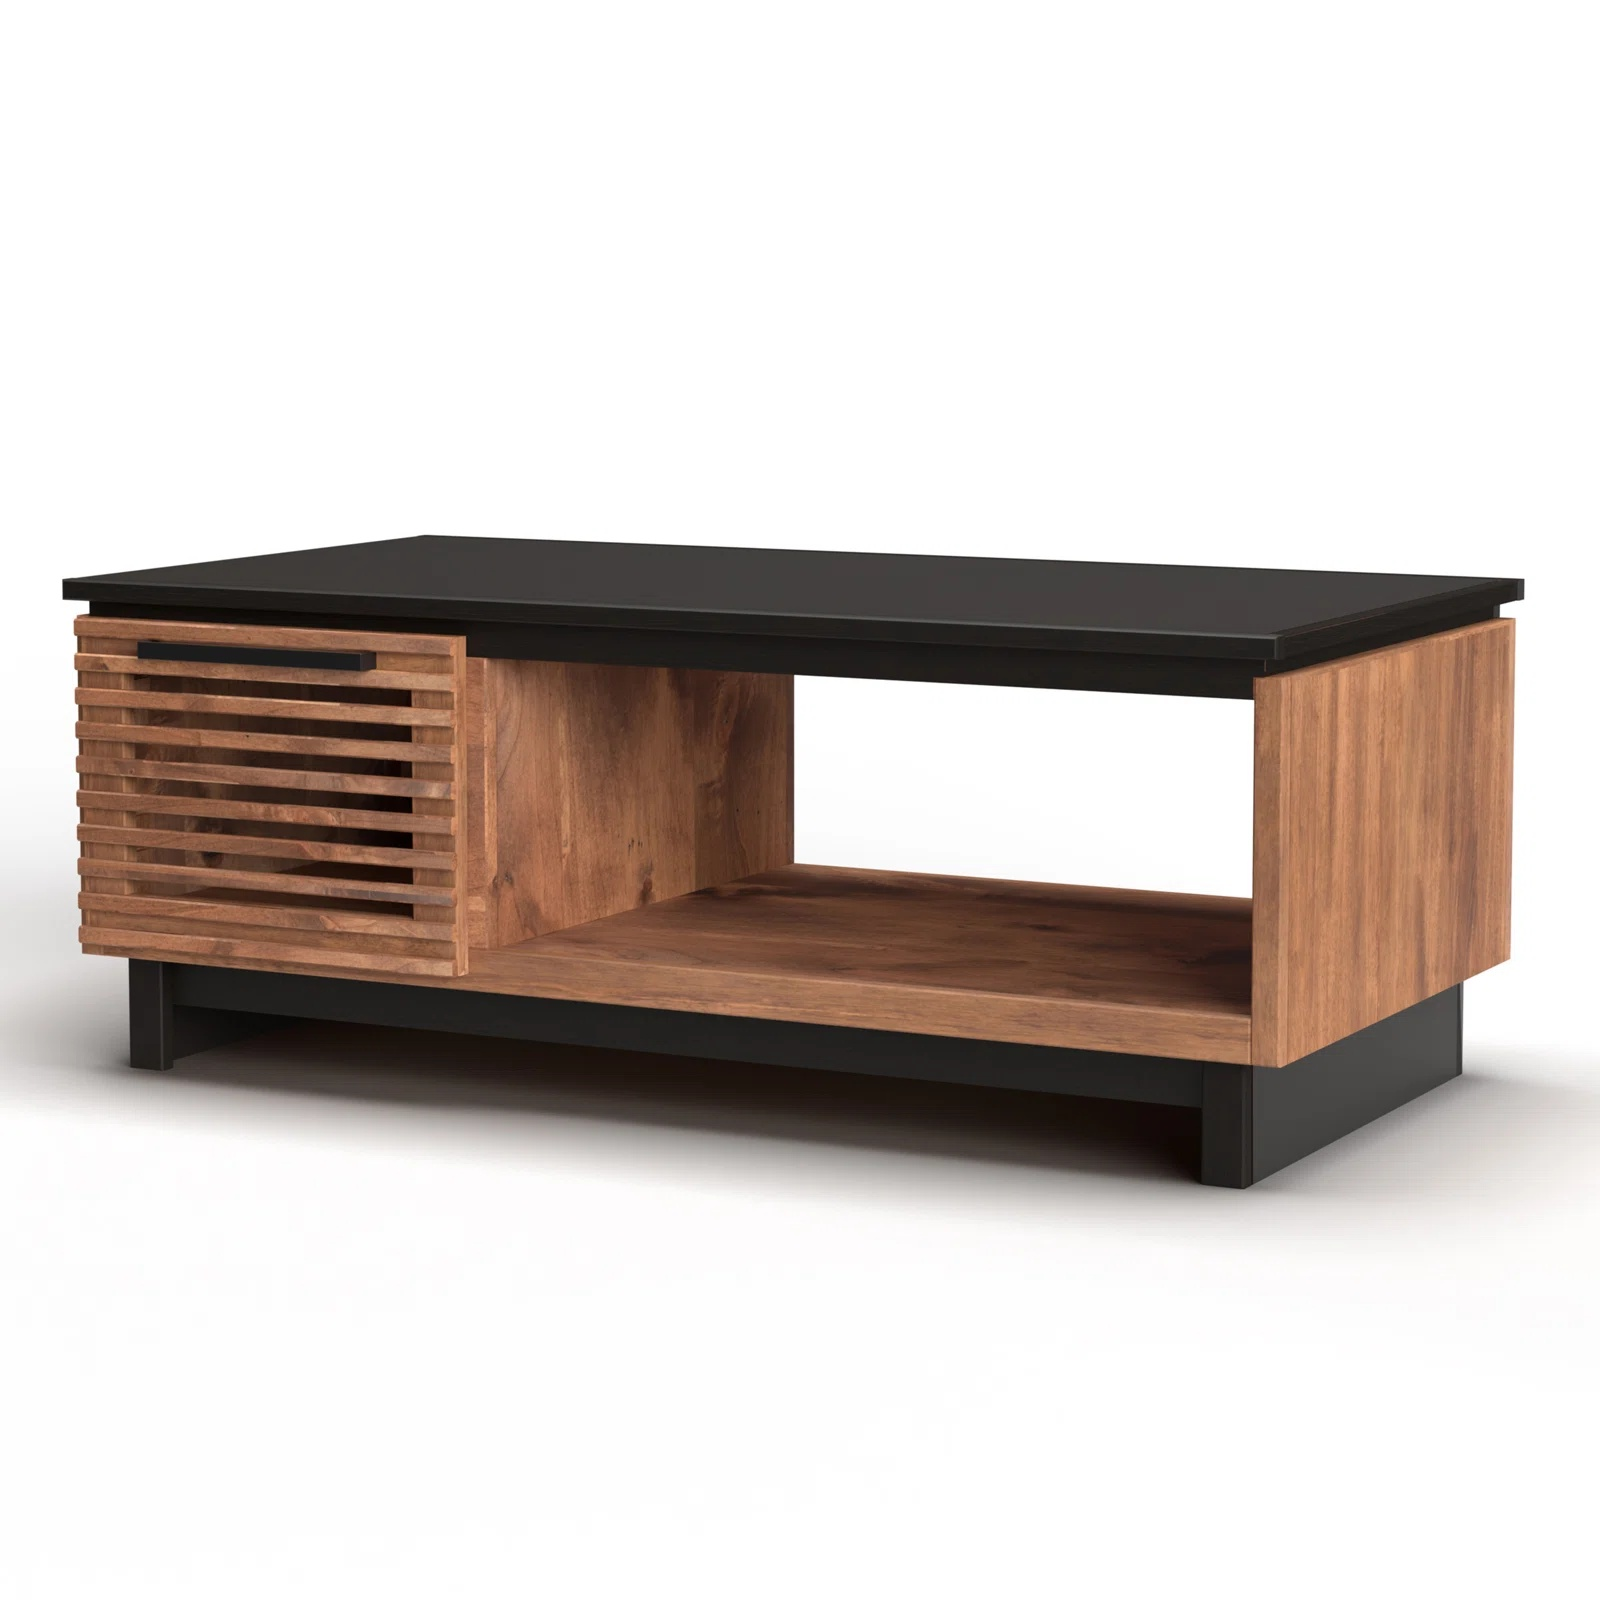obstacle: (64, 536, 1521, 1185)
